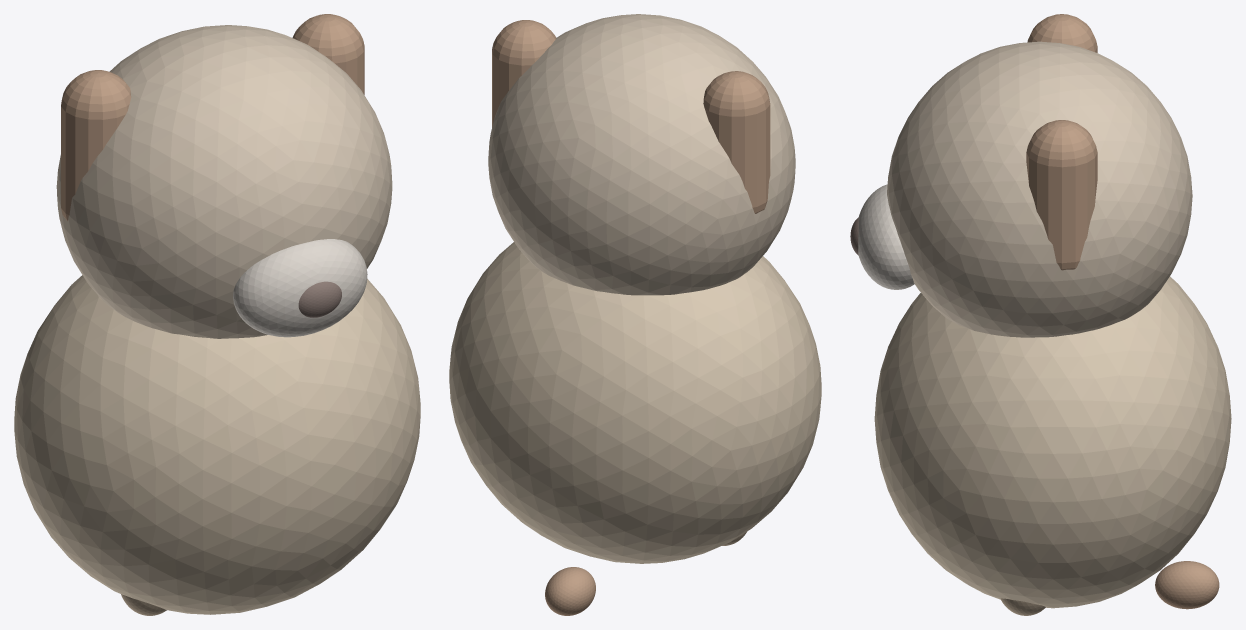
The model's file is dog.glb.
3 views of the same model, side by side, from view 1: azimuth 30°, elevation 25°; view 2: azimuth 150°, elevation 25°; view 3: azimuth 270°, elevation 25° (orthographic). The views are drawn at different scales.
Visible parts, largest first — view 1: world; view 2: world; view 3: world.
Boxes of the visible parts, bbox=[...] form: world: bbox=[14, 14, 420, 615]; world: bbox=[449, 14, 821, 615]; world: bbox=[850, 14, 1231, 615].
Size of the model in its own units: 1.04 by 1.6 by 1.01.
